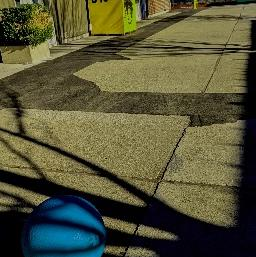algae: (19, 192, 106, 257)
